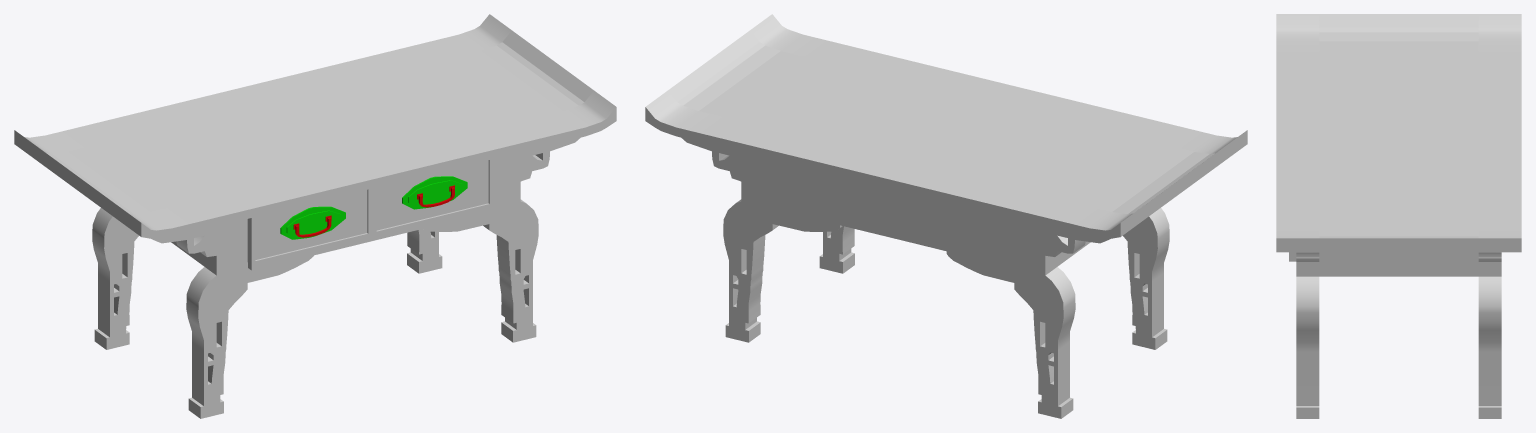
File: tableLow.fbx
The picture shows the model from 3 angles, left to right: view 1: azimuth 30°, elevation 25°; view 2: azimuth 150°, elevation 25°; view 3: azimuth 270°, elevation 25°; orthographic projection. The views are drawn at different scales.
Parts seen in each view (by area): view 1: polySurface4_geo, polySurface2_geo, polySurface3_geo; view 2: polySurface4_geo; view 3: polySurface4_geo.
Boxes of the visible parts, left/top/right/bottom form: polySurface4_geo: left=14, top=14, right=616, bottom=418; polySurface2_geo: left=280, top=206, right=345, bottom=239; polySurface3_geo: left=402, top=176, right=467, bottom=209; polySurface4_geo: left=645, top=14, right=1247, bottom=418; polySurface4_geo: left=1276, top=14, right=1521, bottom=418.
Bounding box in the file's own units: 26.39 × 11.72 × 12.2.
